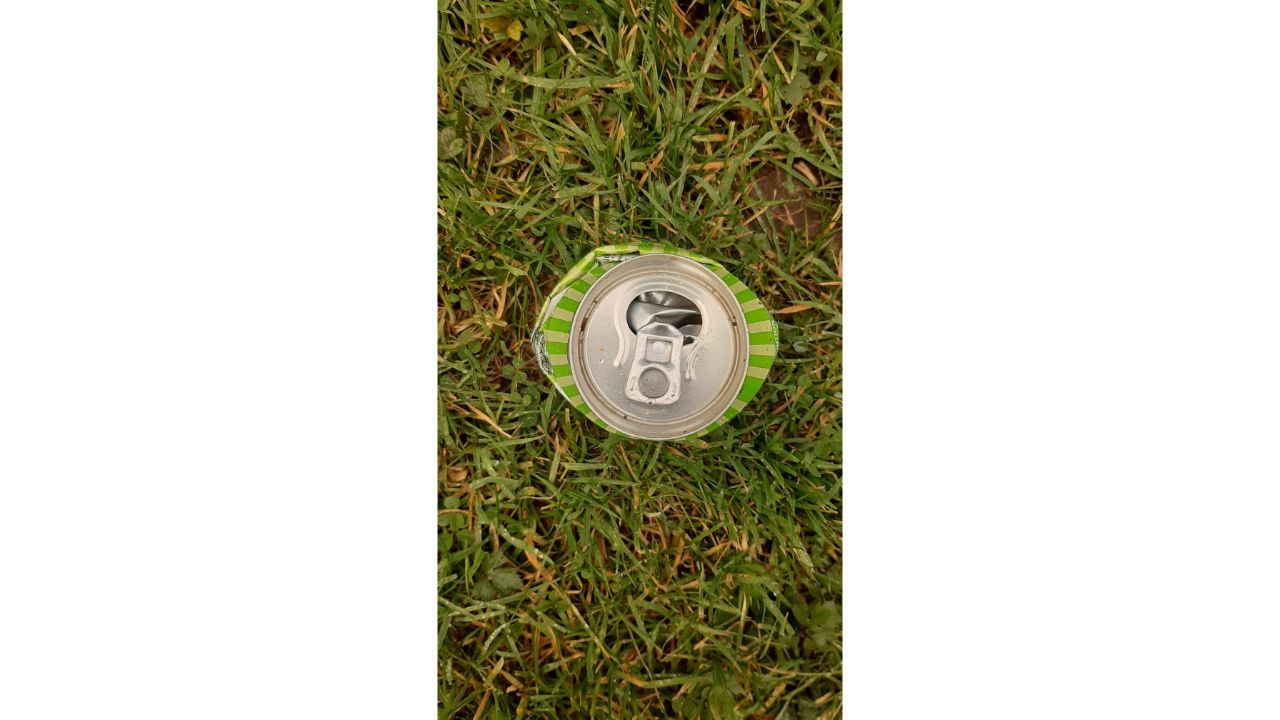Can: (531, 242, 780, 441)
